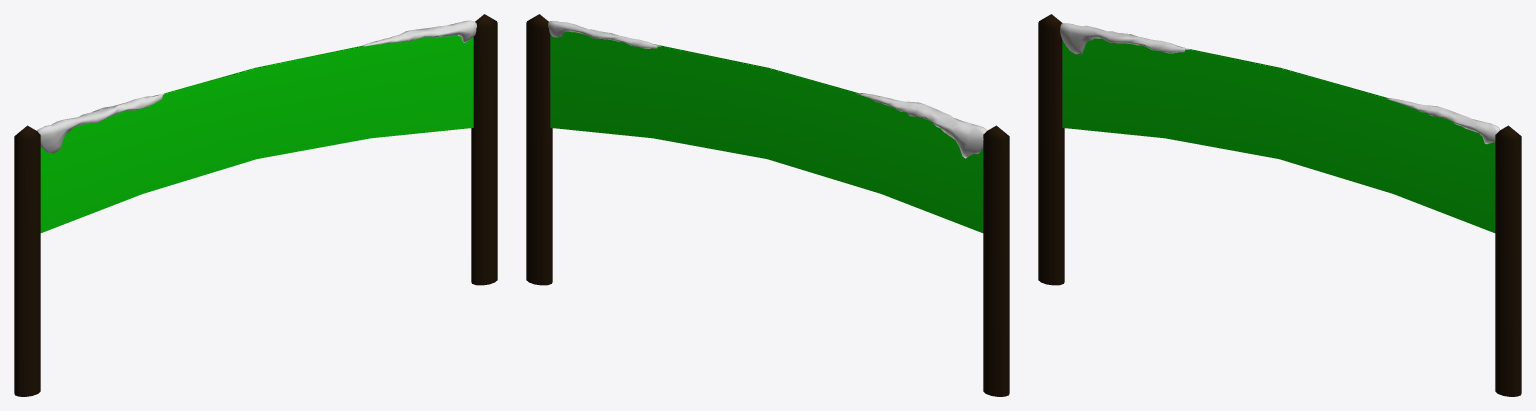
The model's file is Finish v2.fbx.
The picture shows the model from 3 angles, left to right: view 1: azimuth 30°, elevation 25°; view 2: azimuth 150°, elevation 25°; view 3: azimuth 330°, elevation 25°; orthographic projection.
Visible parts, largest first — view 1: FinishShape; view 2: FinishShape; view 3: FinishShape.
Boxes of the visible parts, x1,y1,x2,y2 form: FinishShape: [14, 14, 497, 396]; FinishShape: [526, 14, 1009, 396]; FinishShape: [1038, 14, 1521, 396].
Bounding box in the file's own units: 21.37 × 11.36 × 0.9886.
